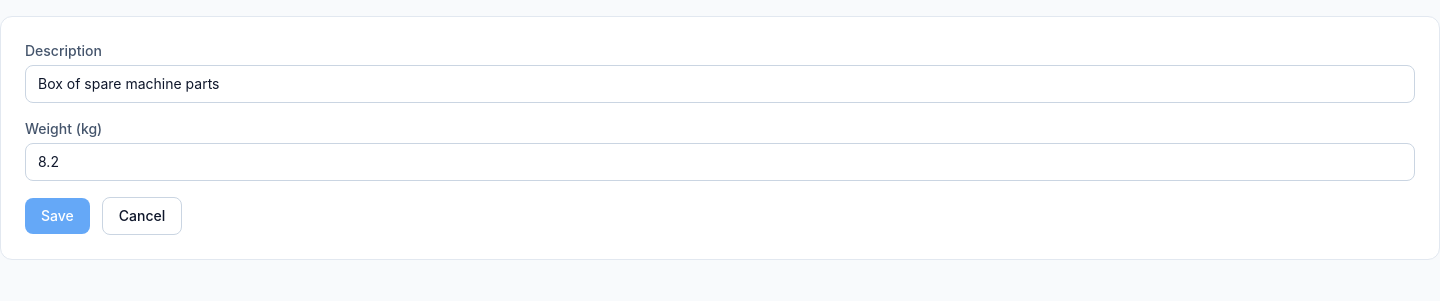
EditShipmentForm › rejects a weight of 0
This screenshot has width=1440, height=301.
Replace the text in the number field labelled "Weight (kg)" with "0" at coordinates (720, 162), box x1=25 y1=143 x2=1415 y2=181
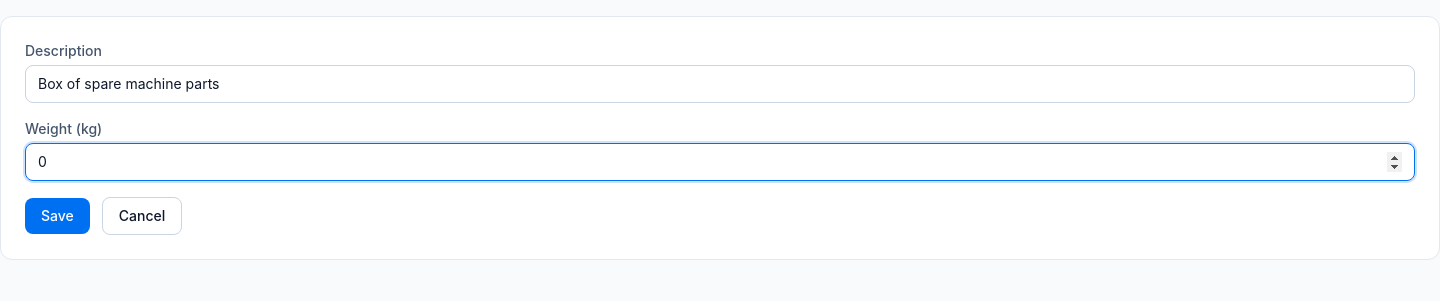
Click the button "Save".
click(57, 216)  # box x1=25 y1=198 x2=90 y2=234
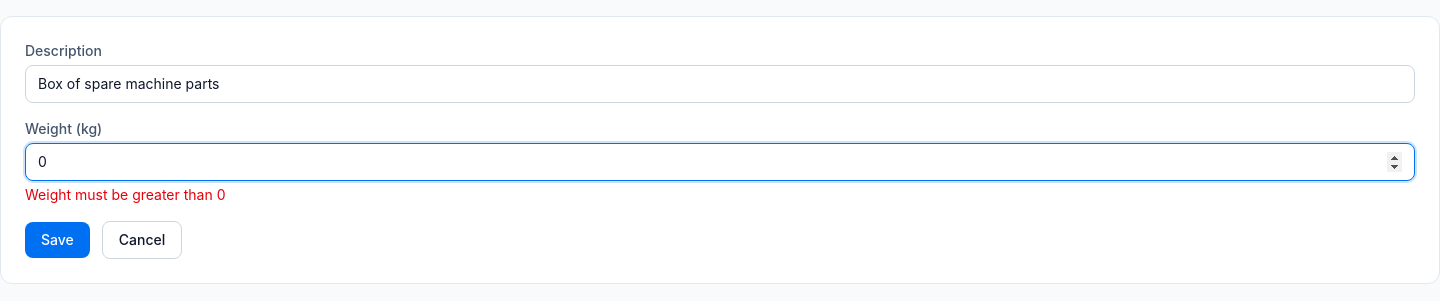
Now the message reads "Weight must be greater than 0", box x1=25 y1=186 x2=226 y2=203
